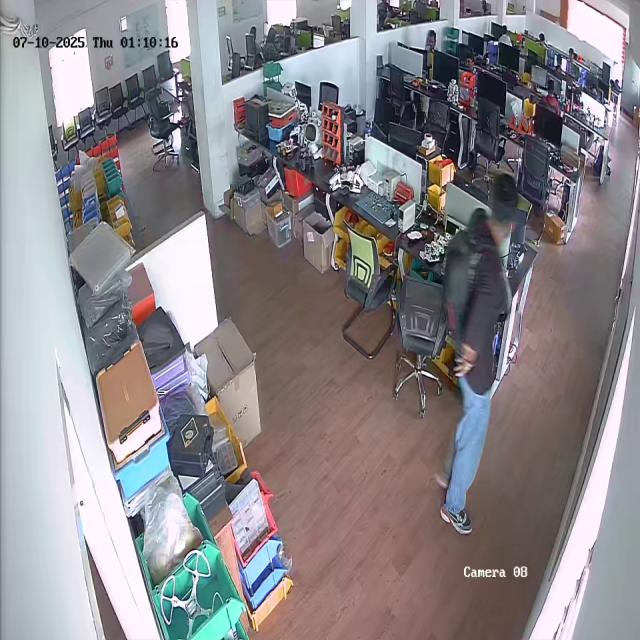person: (421, 168, 514, 542)
